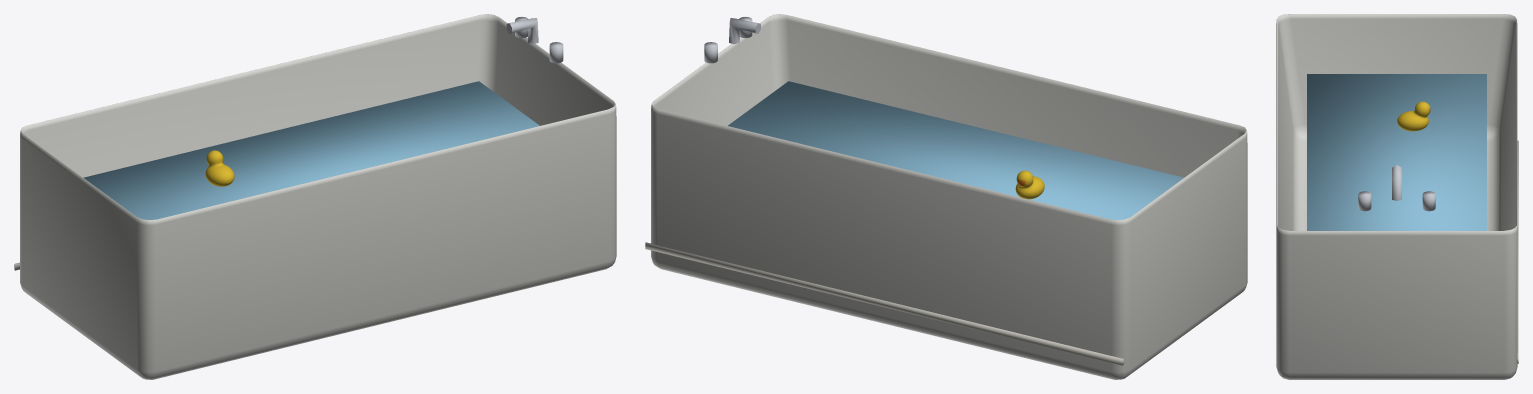
Rendered from bathtub.glb.
3 views of the same model, side by side, from view 1: azimuth 30°, elevation 25°; view 2: azimuth 150°, elevation 25°; view 3: azimuth 270°, elevation 25° (orthographic). The views are drawn at different scales.
Visible parts, largest first — view 1: bathtub; view 2: bathtub; view 3: bathtub.
Part boxes in pixels (box(x1,y1,x2,y2)): bathtub: box(14, 14, 616, 379); bathtub: box(645, 14, 1247, 379); bathtub: box(1276, 14, 1518, 379).
Bounding box in the file's own units: 1.6 × 0.678 × 0.753.
